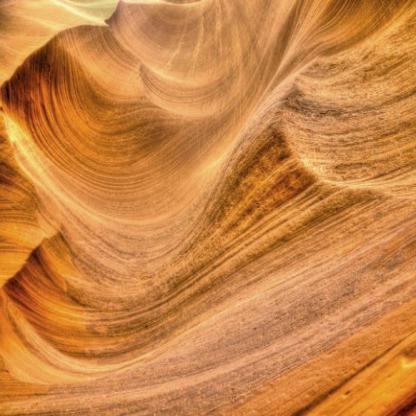Sedimentary_Sandstone: (199, 25, 415, 255), (0, 145, 149, 334), (0, 2, 147, 134)
